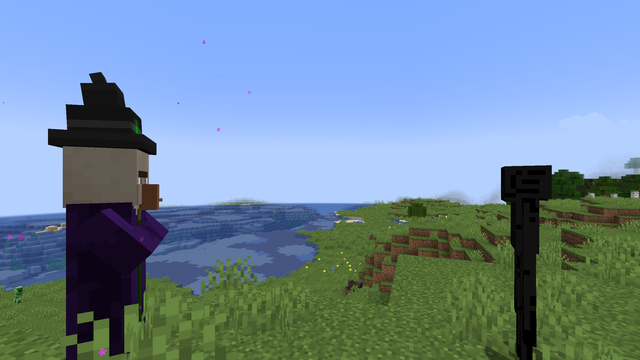araignees: (346, 277, 360, 290)
creepers: (13, 285, 23, 303)
endermens: (493, 158, 560, 359)
sorcieres: (46, 134, 167, 358)
